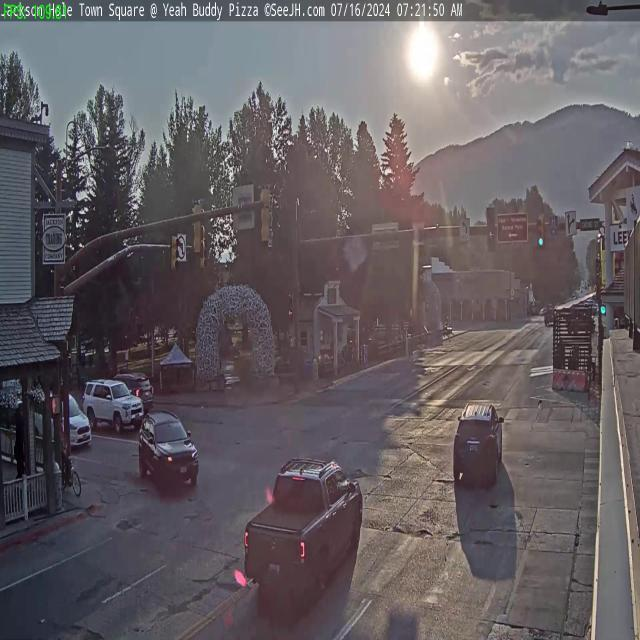pickup: (240, 456, 367, 637)
suv: (136, 407, 199, 494), (452, 399, 508, 496), (82, 378, 141, 436), (44, 394, 92, 452), (116, 371, 153, 411)
traffic light: (260, 183, 272, 246), (190, 199, 203, 256), (486, 207, 496, 250), (170, 233, 179, 274), (200, 237, 209, 274), (536, 215, 546, 248)
